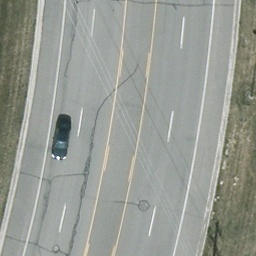car: (48, 116, 72, 163)
